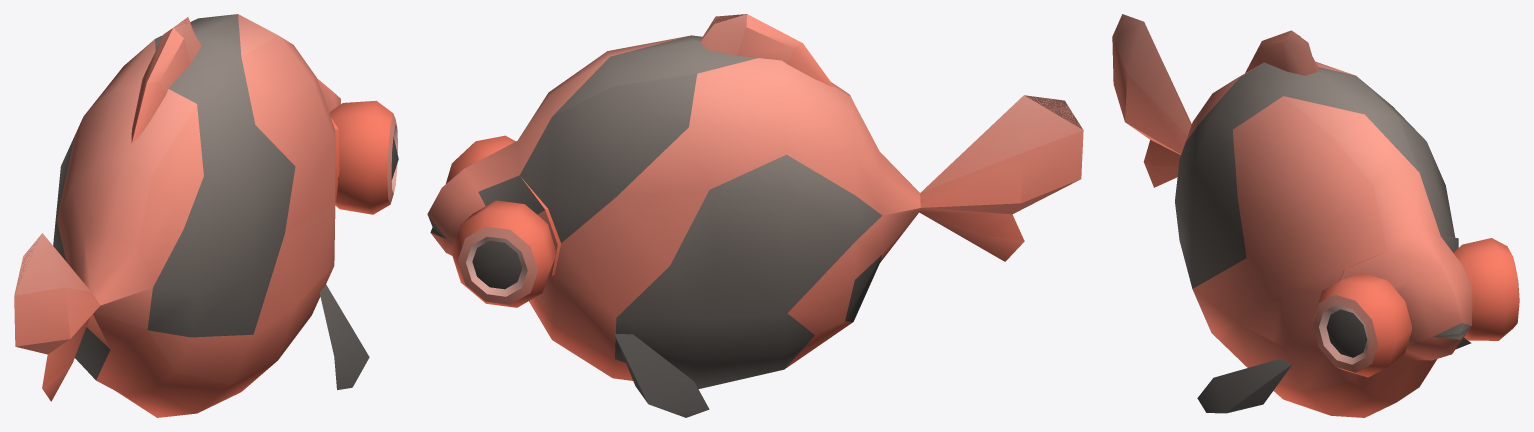
The model's file is cookie fish.fbx.
The picture shows the model from 3 angles, left to right: view 1: azimuth 30°, elevation 25°; view 2: azimuth 150°, elevation 25°; view 3: azimuth 270°, elevation 25°; orthographic projection. The views are drawn at different scales.
Parts seen in each view (by area): view 1: cookie_fish; view 2: cookie_fish; view 3: cookie_fish.
Boxes of the visible parts, bbox=[...] form: cookie_fish: bbox=[14, 14, 398, 417]; cookie_fish: bbox=[427, 14, 1083, 417]; cookie_fish: bbox=[1112, 14, 1519, 417].
Size of the model in its own units: 101 by 71.14 by 74.25.
1 material, 1 textured.
